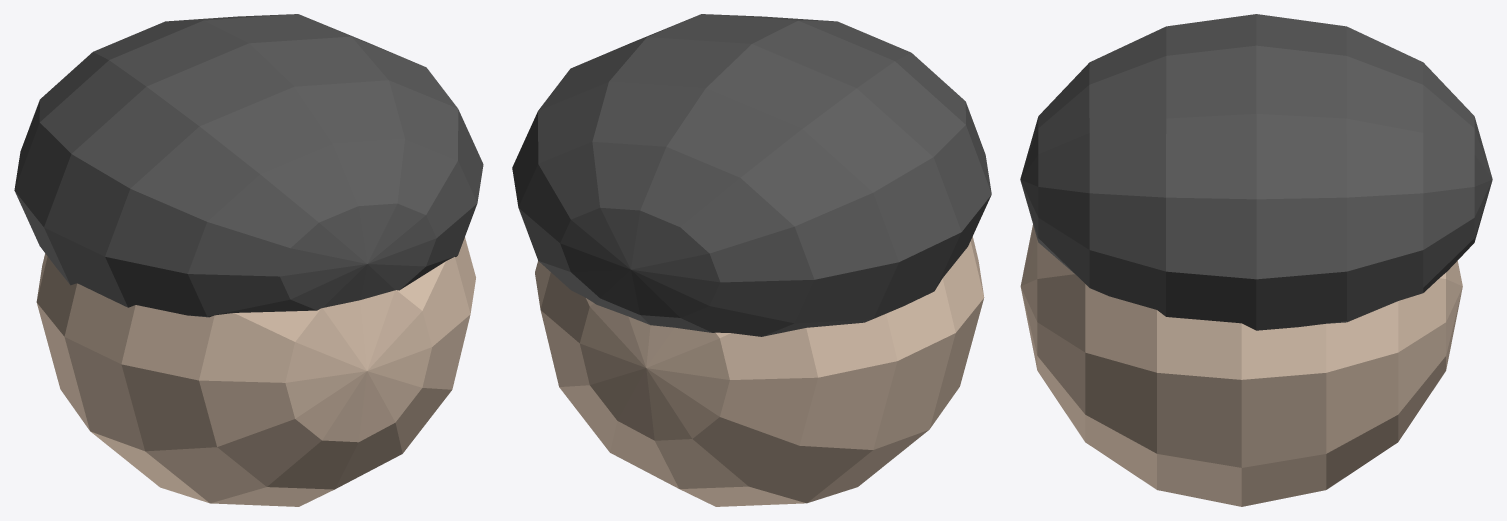
The model's file is hair_short.glb.
3 views of the same model, side by side, from view 1: azimuth 30°, elevation 25°; view 2: azimuth 150°, elevation 25°; view 3: azimuth 270°, elevation 25° (orthographic). The views are drawn at different scales.
Parts seen in each view (by area): view 1: hair, head; view 2: hair, head; view 3: hair, head.
Part boxes in pixels (<box>): hair: <box>14,14,483,317</box>; head: <box>36,237,475,506</box>; hair: <box>512,14,991,336</box>; head: <box>535,236,984,506</box>; hair: <box>1020,14,1492,330</box>; head: <box>1020,225,1462,506</box>.
Size of the model in its own units: 0.3203 by 0.33 by 0.3203.
